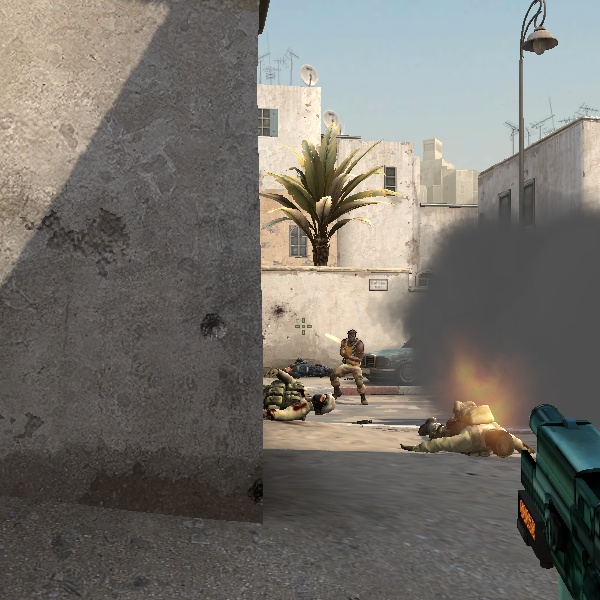t_body: (332, 327, 371, 406)
t_head: (347, 328, 359, 344)
